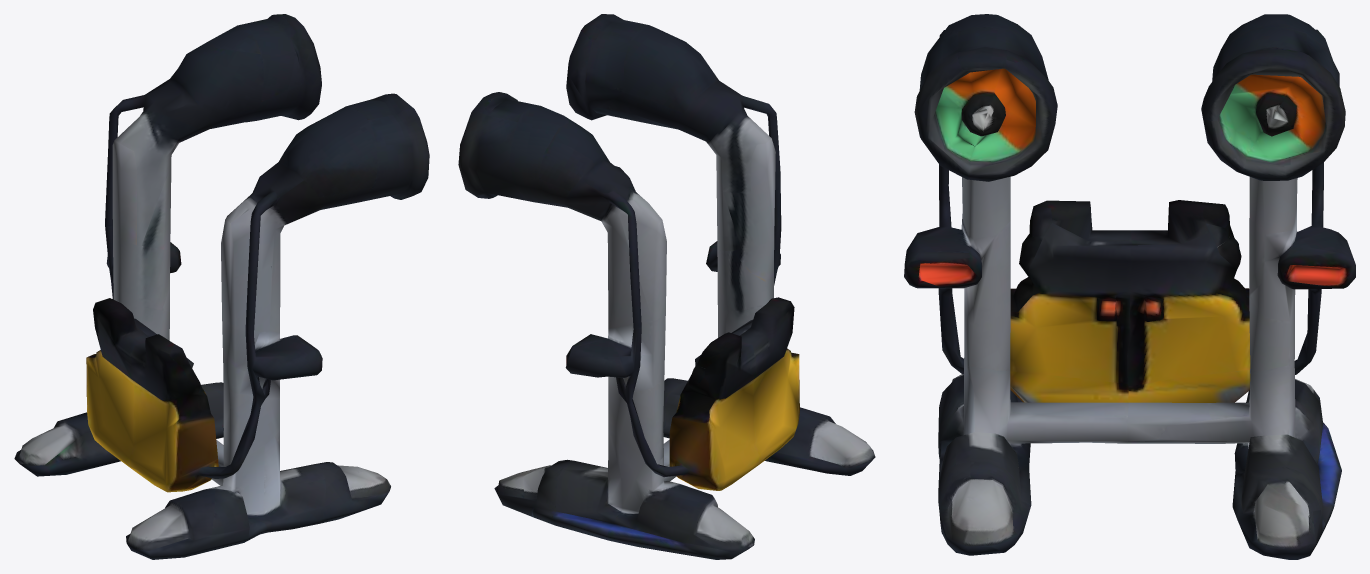
The model's file is cable-machine.glb.
3 views of the same model, side by side, from view 1: azimuth 30°, elevation 25°; view 2: azimuth 150°, elevation 25°; view 3: azimuth 270°, elevation 25° (orthographic). The views are drawn at different scales.
Parts seen in each view (by area): view 1: tripo_node_b6ebc7ce-414f-406f-a74f-ef01ba573fac; view 2: tripo_node_b6ebc7ce-414f-406f-a74f-ef01ba573fac; view 3: tripo_node_b6ebc7ce-414f-406f-a74f-ef01ba573fac.
Boxes of the visible parts, <box> form: tripo_node_b6ebc7ce-414f-406f-a74f-ef01ba573fac: <box>14,14,429,559</box>; tripo_node_b6ebc7ce-414f-406f-a74f-ef01ba573fac: <box>458,14,875,559</box>; tripo_node_b6ebc7ce-414f-406f-a74f-ef01ba573fac: <box>904,14,1355,559</box>.
Bounding box in the file's own units: 0.7386 × 0.9996 × 0.7794.
1 material, 1 textured.
